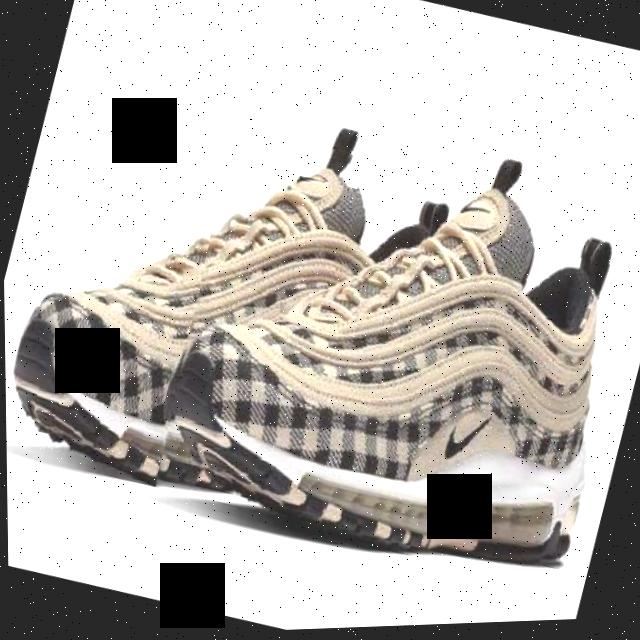shoe: (140, 148, 640, 597), (1, 70, 371, 524)
